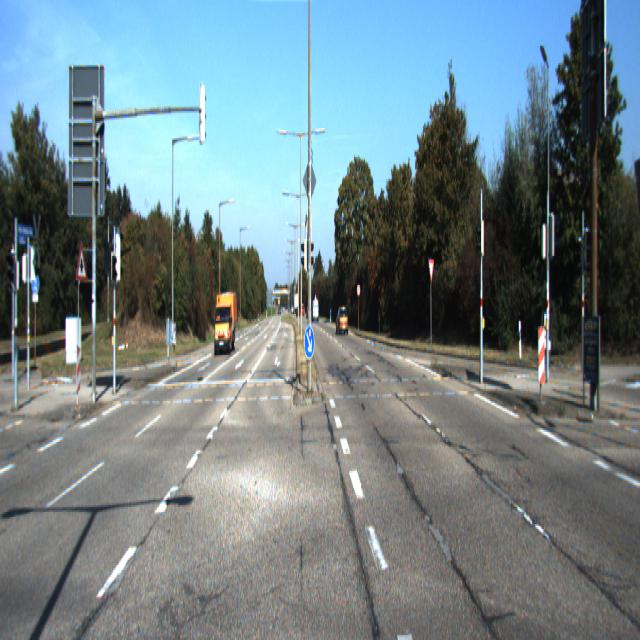Car: (211, 292, 237, 358), (337, 306, 348, 336)
